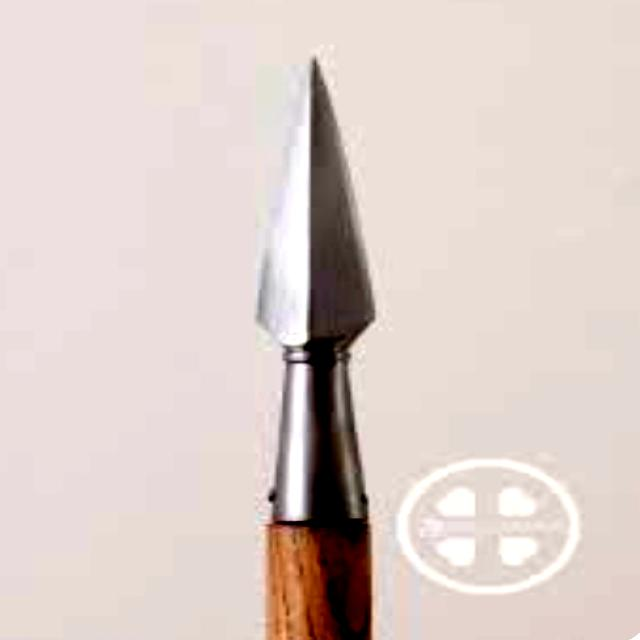spear: (200, 40, 450, 632)
